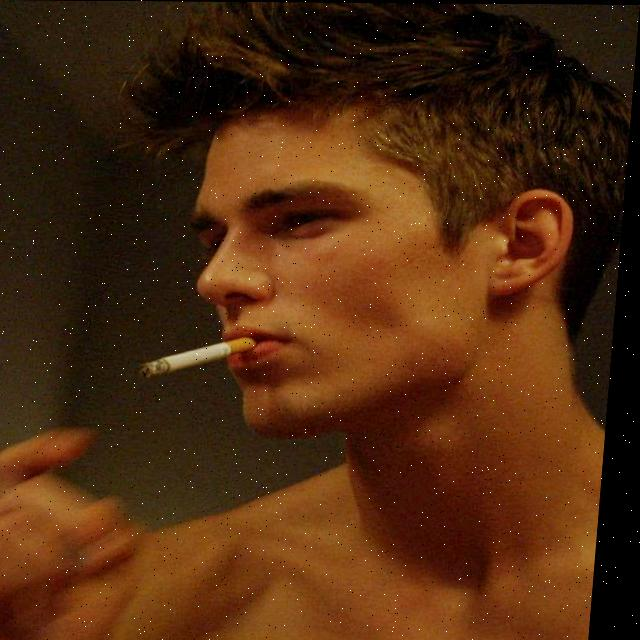cigarette: (149, 333, 260, 378)
